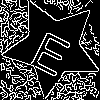E: (27, 22, 78, 78)
